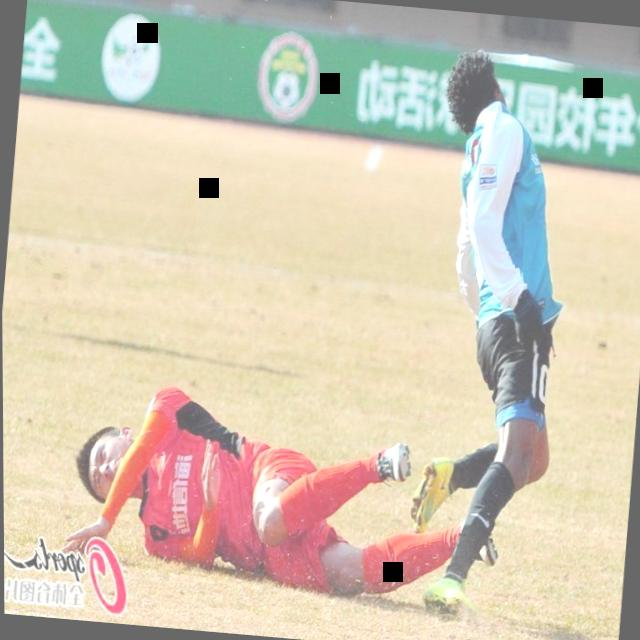Fall-Detected: (47, 356, 495, 619)
